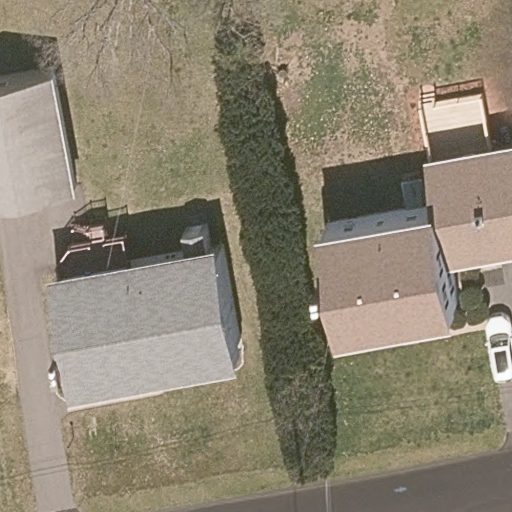DT: (291, 419, 308, 488)
